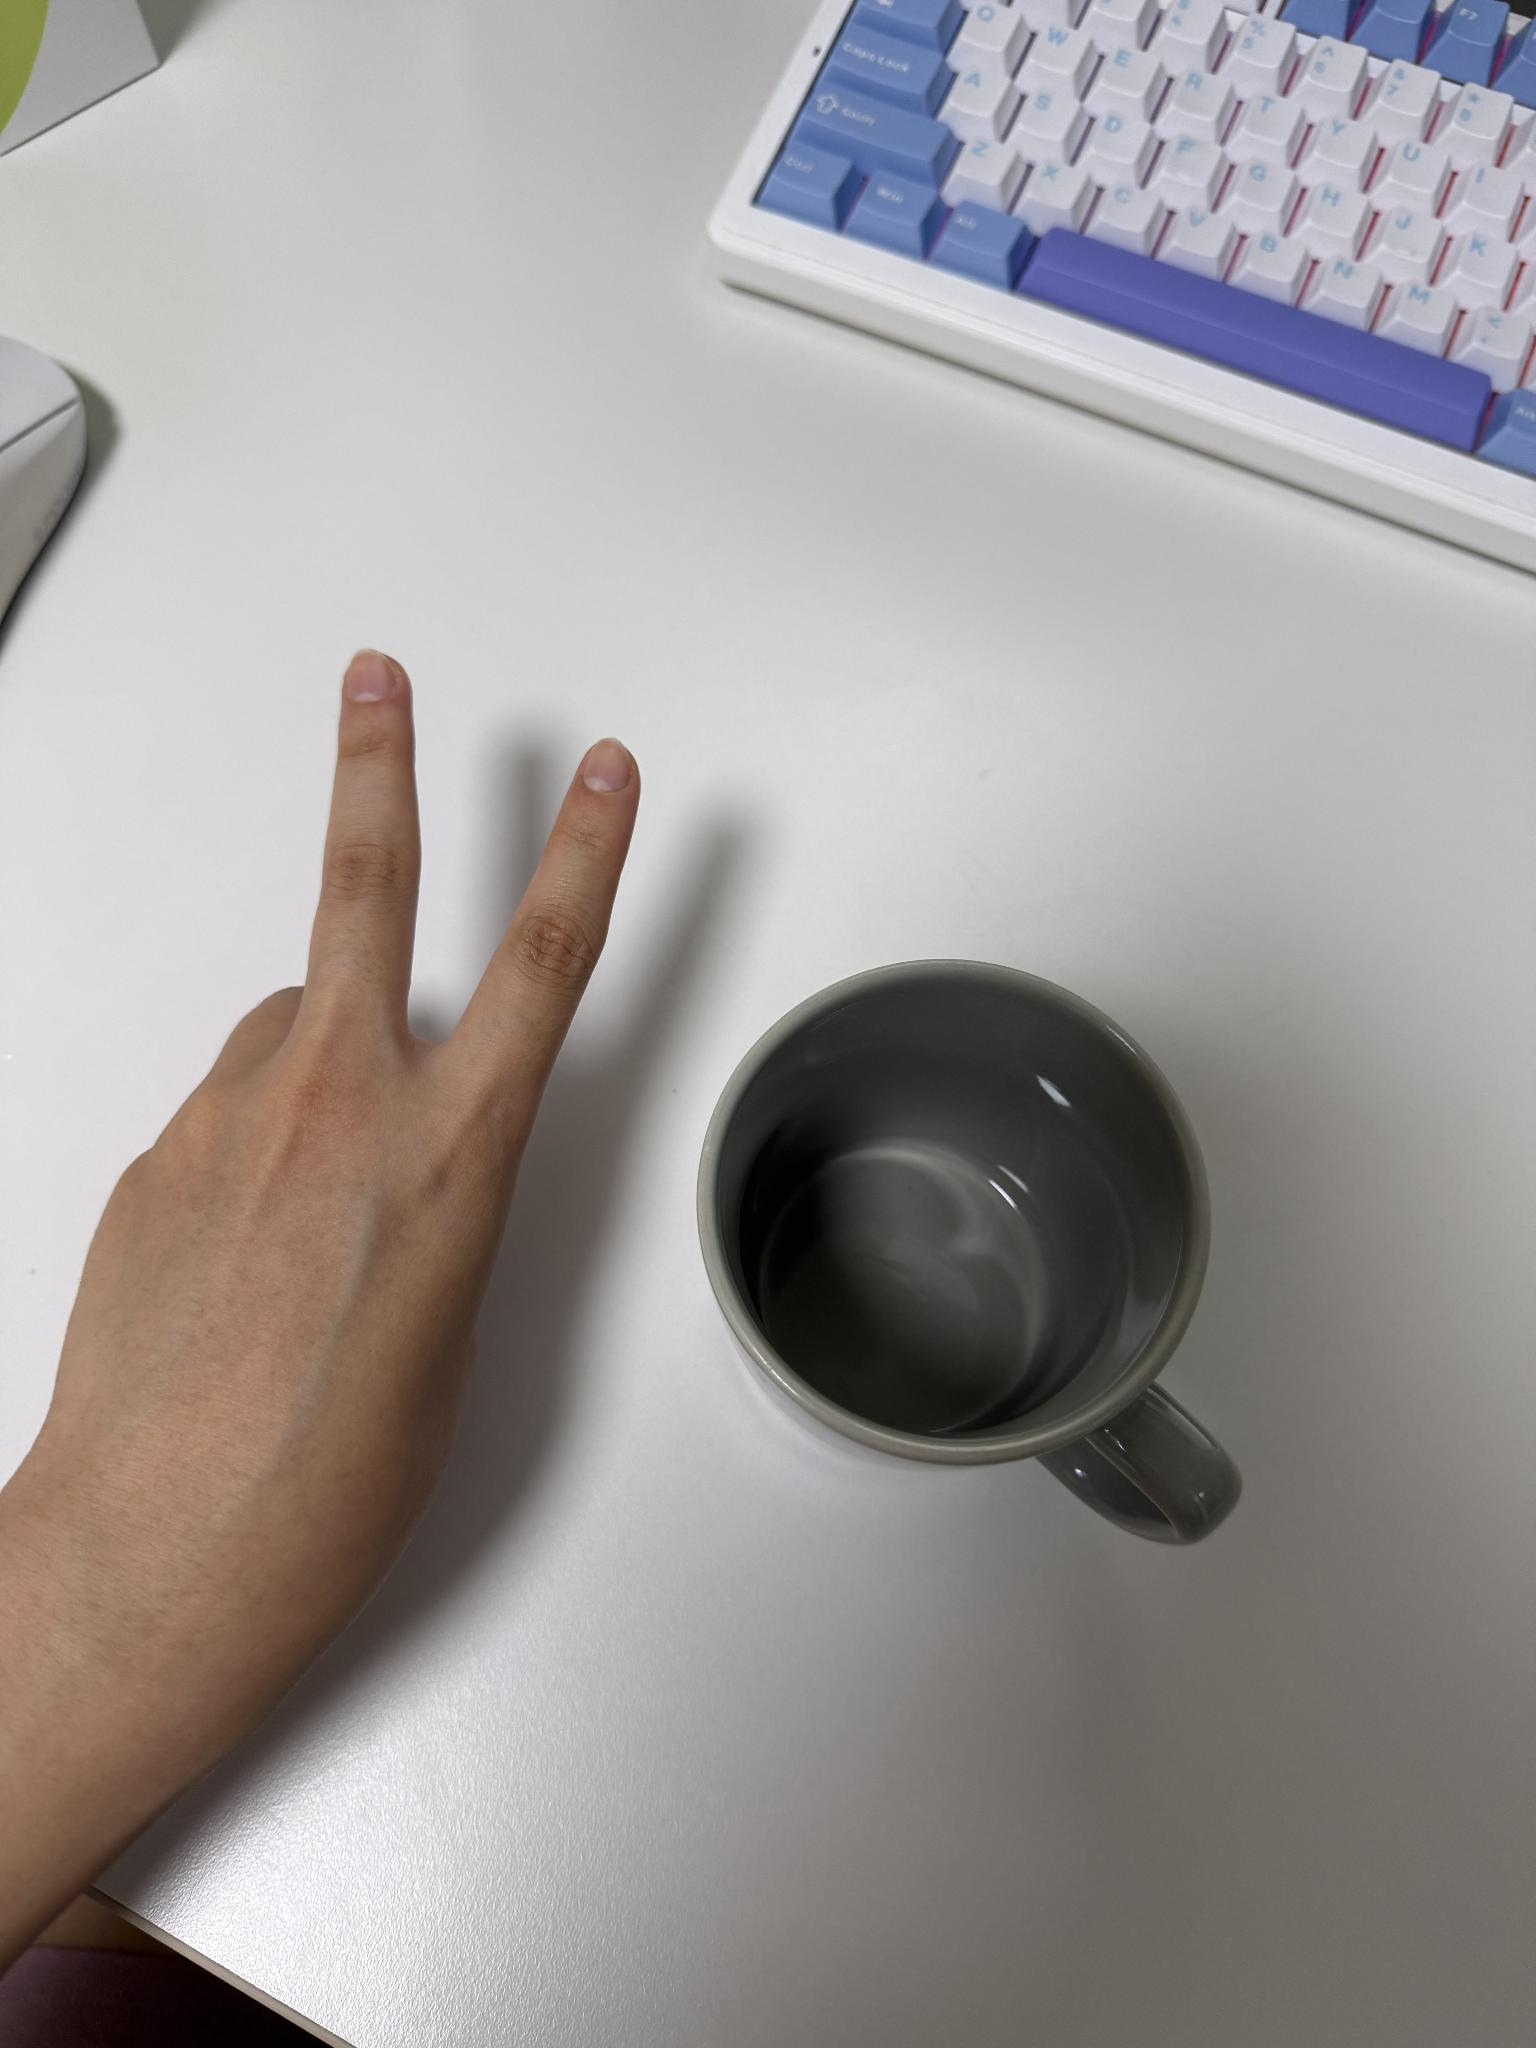v: (0, 643, 661, 1787)
